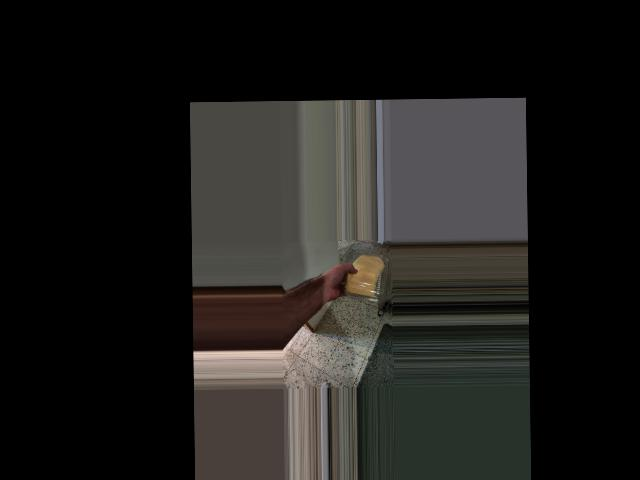cheese: (342, 252, 388, 301)
